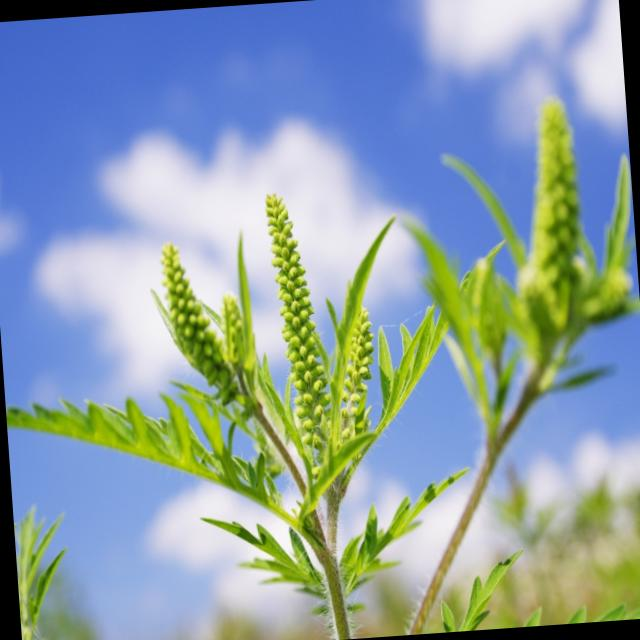ambrosia: (152, 188, 426, 569), (473, 79, 640, 418)
